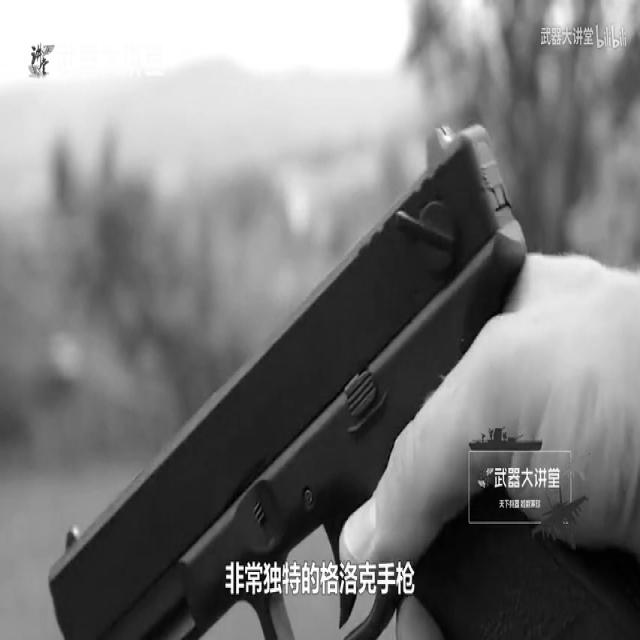Hand-Gun: (12, 48, 640, 640)
